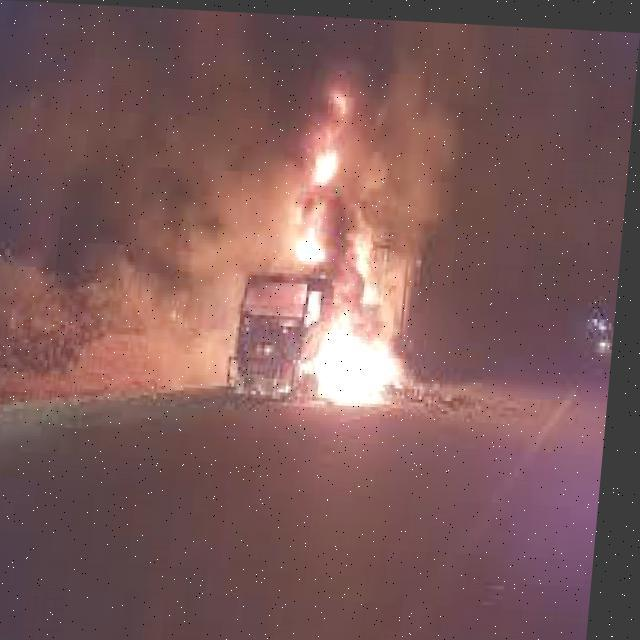Fire: (238, 255, 452, 405), (274, 64, 404, 270)
